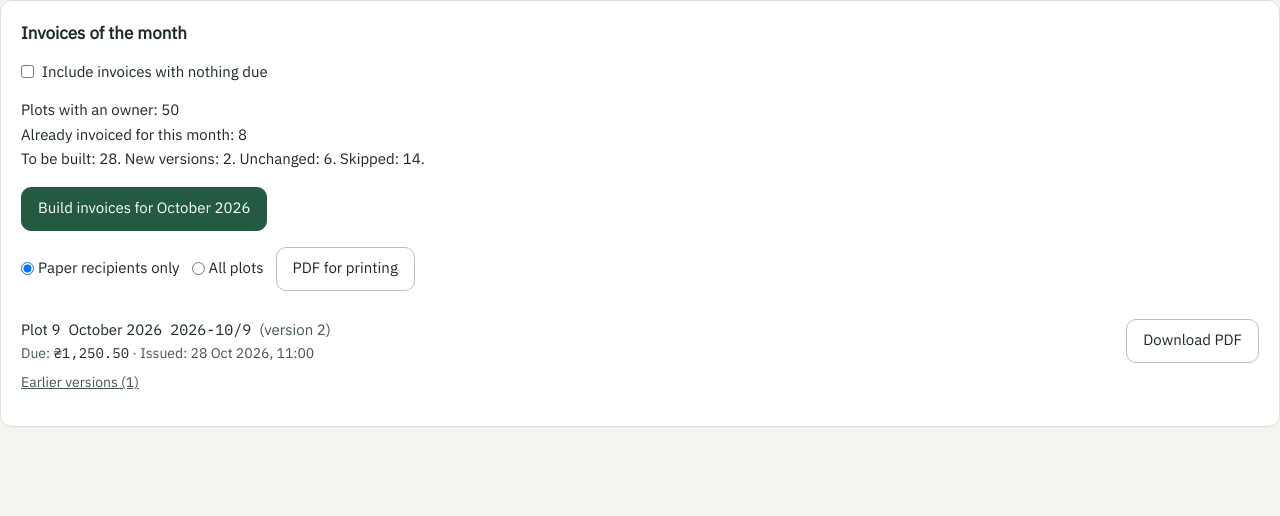
it: MonthInvoicesPanel › lists the latest version per plot with its earlier versions collapsed
The image size is (1280, 516).
Click the button "Earlier versions (1)". click: (80, 382)
box: [21, 372, 139, 392]
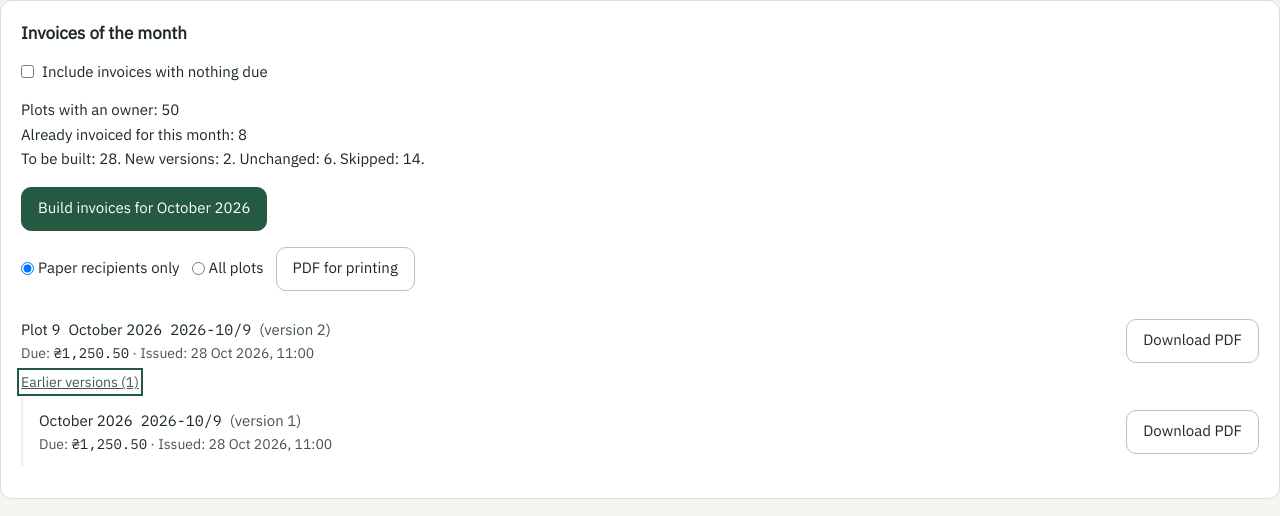
Expected: the text "(version 1)" is shown, [230, 410, 301, 432]
